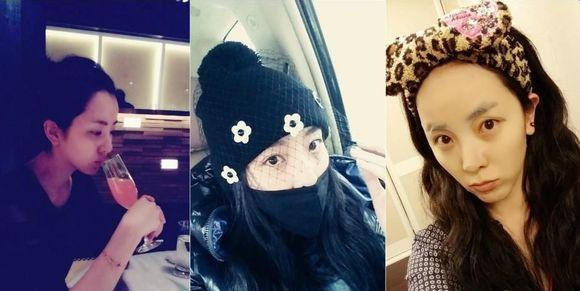NONE: (427, 98, 530, 203), (71, 111, 119, 176)
WRONG: (246, 125, 342, 221)
